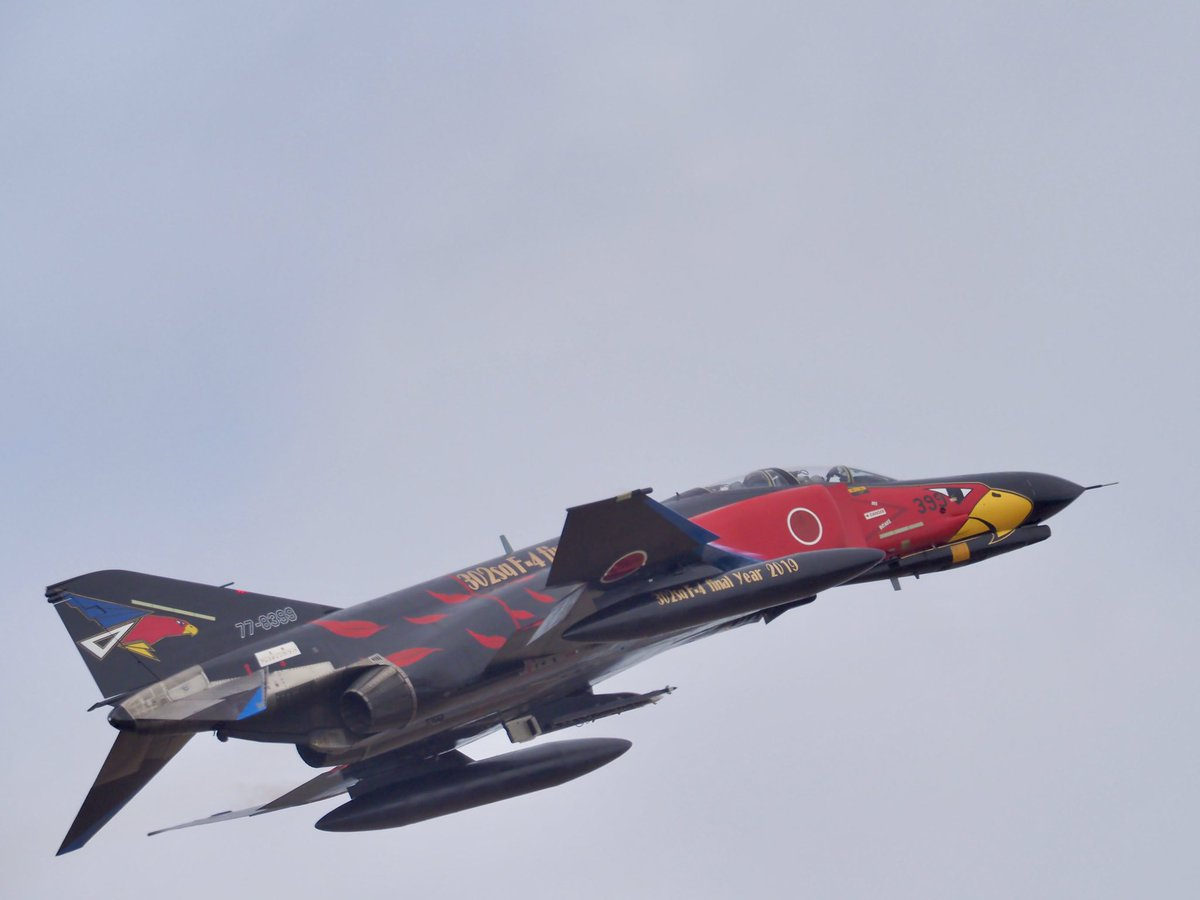F4: (43, 465, 1119, 858)
